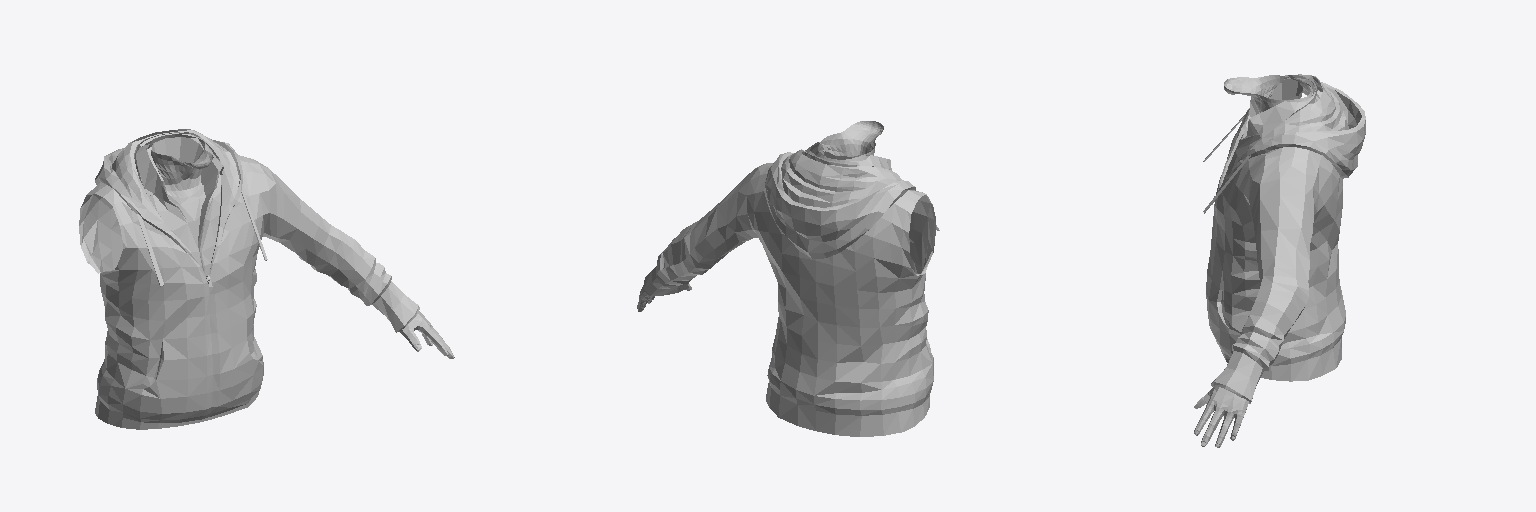
Rendered from upper_body.obj.
3 views of the same model, side by side, from view 1: azimuth 30°, elevation 25°; view 2: azimuth 150°, elevation 25°; view 3: azimuth 270°, elevation 25° (orthographic).
Parts seen in each view (by area): view 1: Harry_Potter; view 2: Harry_Potter; view 3: Harry_Potter.
Boxes of the visible parts, box(x1,y1,x2,y2) form: Harry_Potter: box(79, 129, 454, 429); Harry_Potter: box(637, 121, 939, 436); Harry_Potter: box(1194, 74, 1365, 447).
Size of the model in its own units: 1.69 by 1.35 by 0.7899.